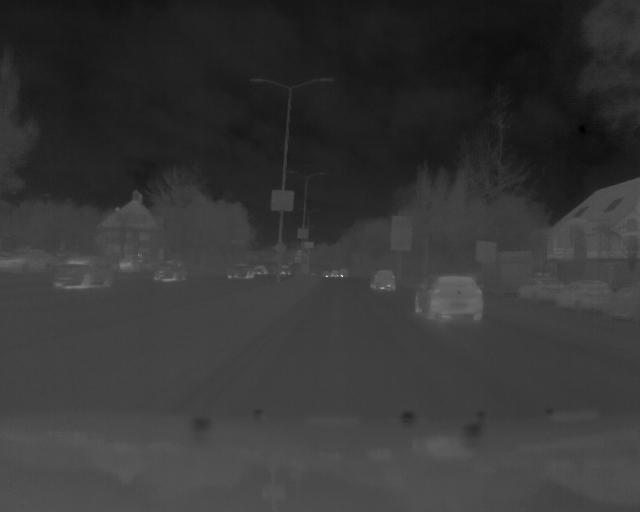car: (415, 276, 487, 322), (48, 251, 120, 291), (557, 280, 609, 315), (519, 275, 562, 303), (154, 259, 190, 285), (367, 265, 398, 290), (226, 261, 256, 280)
